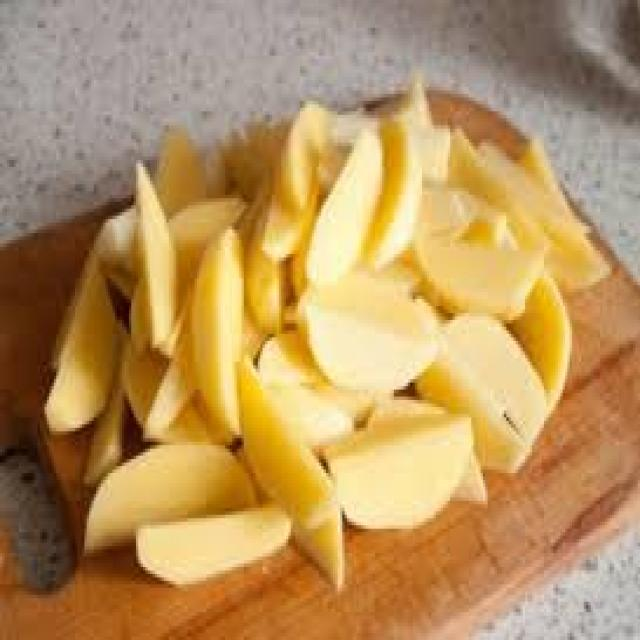Potato: (44, 71, 606, 604)
